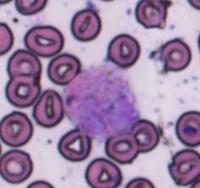E: (62, 66, 140, 140)
